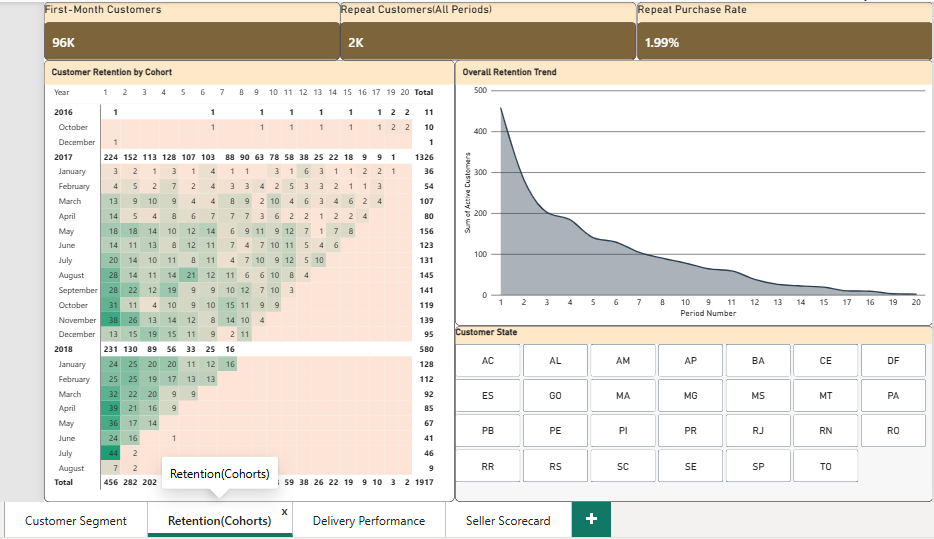

The page's visual inventory and layout, read from the dashboard file:
{"tool":"powerbi","page":{"name":"Retention(Cohorts)","canvas":[1920,1080],"ordinal":1},"visuals":[{"type":"pivotTable","title":"Customer Retention by Cohort","fields":{"Columns":["ecommerce_analytics vw_cohort_retention.period_number"],"Values":["Sum(ecommerce_analytics vw_cohort_retention.active_customers)"],"Rows":["ecommerce_analytics vw_cohort_retention.cohort_month.Variation.Date Hierarchy.Year","ecommerce_analytics vw_cohort_retention.cohort_month.Variation.Date Hierarchy.Month"]},"box":[0,126,886.9,955],"z":0},{"type":"cardVisual","title":"First-Month Customers","fields":{"Data":["Sum(ecommerce_analytics vw_cohort_retention.active_customers)"]},"box":[0,0,640,126],"z":1000},{"type":"cardVisual","title":"Repeat Customers(All Periods)","fields":{"Data":["Sum(ecommerce_analytics vw_cohort_retention.active_customers)"]},"box":[640,0,640,126],"z":2000},{"type":"cardVisual","title":"Repeat Purchase Rate","fields":{"Data":["ecommerce_analytics vw_cohort_retention.RepeatRate"]},"box":[1280,0,640,126],"z":3000},{"type":"lineChart","title":"Overall Retention Trend","fields":{"Category":["ecommerce_analytics vw_cohort_retention.period_number"],"Y":["Sum(ecommerce_analytics vw_cohort_retention.active_customers)"]},"box":[886.9,126,1033.1,574.5],"z":4000},{"type":"advancedSlicerVisual","title":"Customer State","fields":{"Values":["ecommerce_analytics vw_cohort_retention.customer_state"]},"box":[886.9,700.5,1033.1,380.5],"z":5000}]}

Visuals, with their boxes in screenshot pixels (x1, y1, x2, y2):
"Customer Retention by Cohort" pivotTable: 41/58/452/500
"First-Month Customers" cardVisual: 41/0/337/58
"Repeat Customers(All Periods)" cardVisual: 337/0/634/58
"Repeat Purchase Rate" cardVisual: 634/0/930/58
"Overall Retention Trend" lineChart: 452/58/930/324
"Customer State" advancedSlicerVisual: 452/324/930/500
